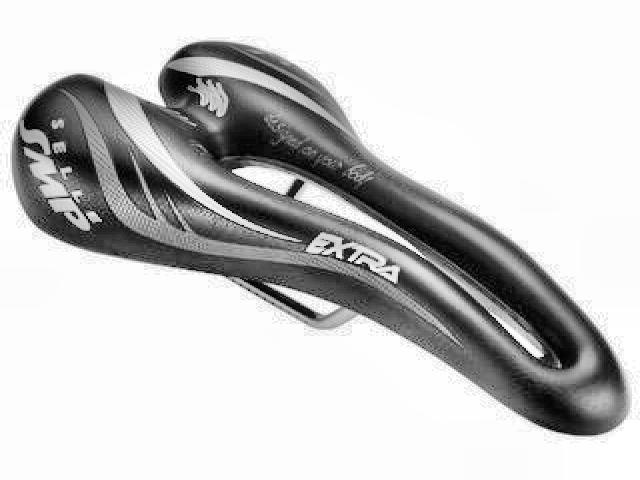saddle: (9, 34, 635, 450)
